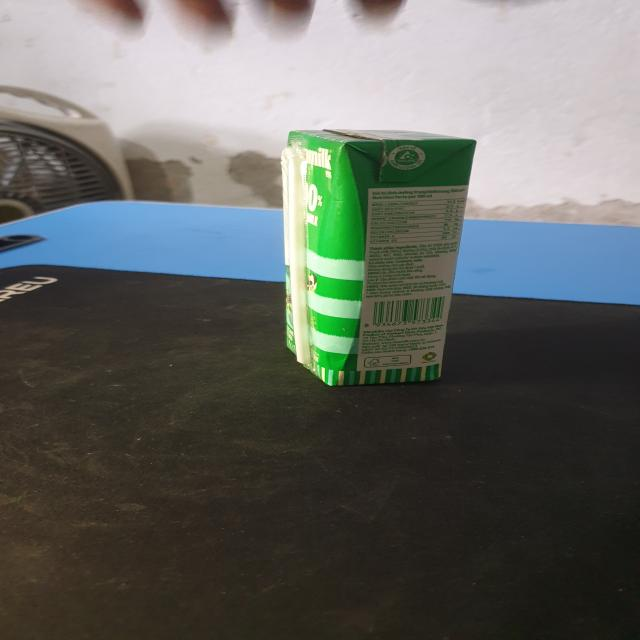Vina: (275, 128, 478, 387)
